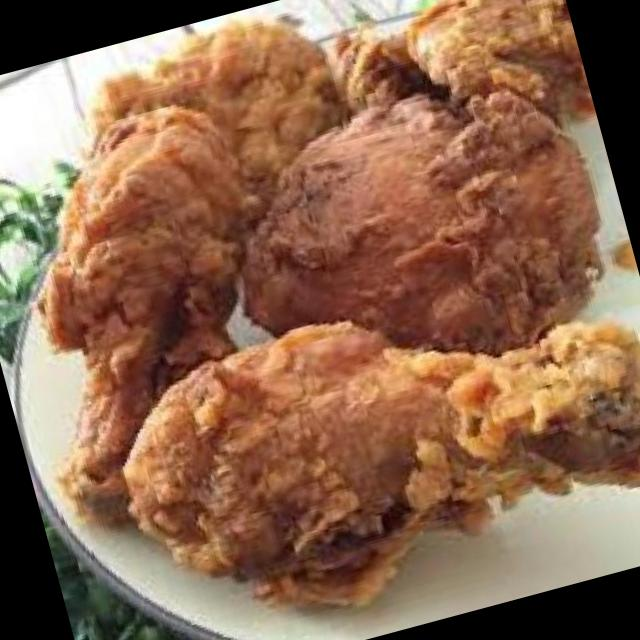Fried Chicken: (29, 21, 354, 521), (121, 316, 640, 610), (242, 94, 602, 358)
